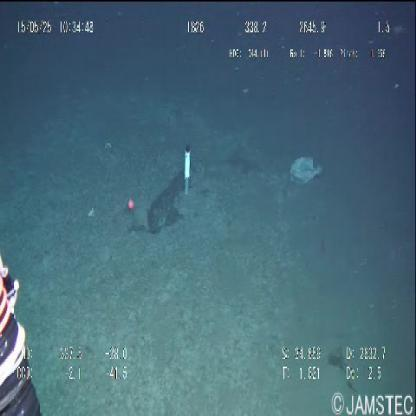Rác: (288, 155, 326, 188)
